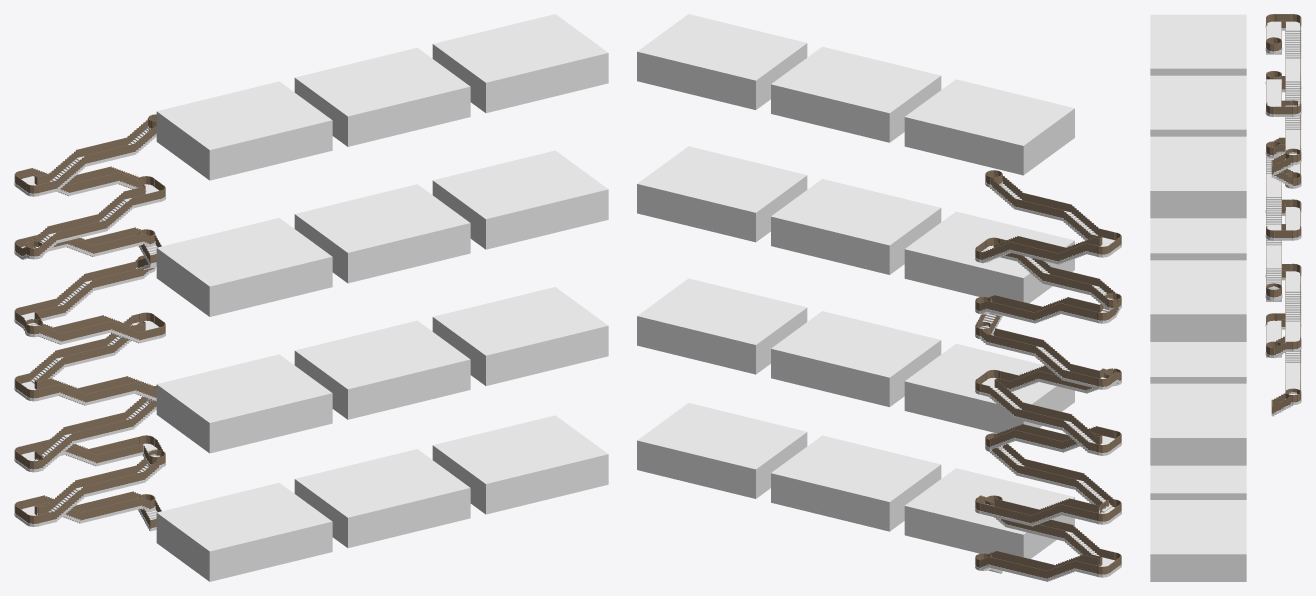
The picture shows the model from 3 angles, left to right: view 1: azimuth 30°, elevation 25°; view 2: azimuth 150°, elevation 25°; view 3: azimuth 270°, elevation 25°; orthographic projection. The views are drawn at different scales.
Visible parts, largest first — view 1: cliff_ceiling_rock_ceiling, cliff_wall_plaster, cliff_rail_rail, cliff_stair_wood, cliff_floor_stone_floor; view 2: cliff_ceiling_rock_ceiling, cliff_wall_plaster, cliff_rail_rail, cliff_stair_wood, cliff_floor_stone_floor; view 3: cliff_ceiling_rock_ceiling, cliff_wall_plaster, cliff_stair_wood, cliff_rail_rail, cliff_floor_stone_floor.
Part boxes in pixels (x1=…): cliff_ceiling_rock_ceiling: x1=156, y1=14, x2=608, y2=553; cliff_wall_plaster: x1=156, y1=46, x2=608, y2=579; cliff_rail_rail: x1=14, y1=114, x2=165, y2=528; cliff_stair_wood: x1=14, y1=126, x2=165, y2=531; cliff_floor_stone_floor: x1=156, y1=81, x2=608, y2=581; cliff_ceiling_rock_ceiling: x1=637, y1=14, x2=1074, y2=536; cliff_wall_plaster: x1=637, y1=46, x2=1074, y2=558; cliff_rail_rail: x1=975, y1=170, x2=1121, y2=578; cliff_stair_wood: x1=975, y1=181, x2=1121, y2=581; cliff_floor_stone_floor: x1=637, y1=79, x2=1074, y2=558; cliff_ceiling_rock_ceiling: x1=1150, y1=14, x2=1246, y2=556; cliff_wall_plaster: x1=1150, y1=71, x2=1246, y2=579; cliff_stair_wood: x1=1265, y1=21, x2=1301, y2=416; cliff_rail_rail: x1=1266, y1=14, x2=1301, y2=413; cliff_floor_stone_floor: x1=1150, y1=216, x2=1246, y2=581.
Size of the model in its own units: 67.04 by 53.85 by 18.84.
